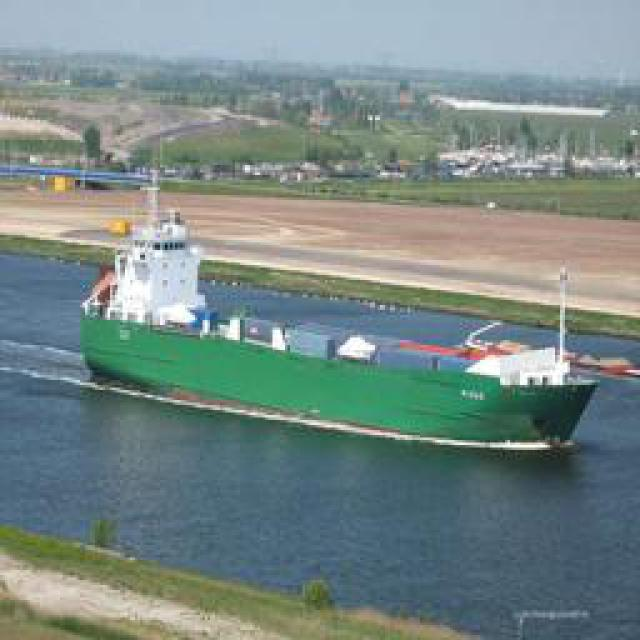Ship: (75, 219, 623, 454)
